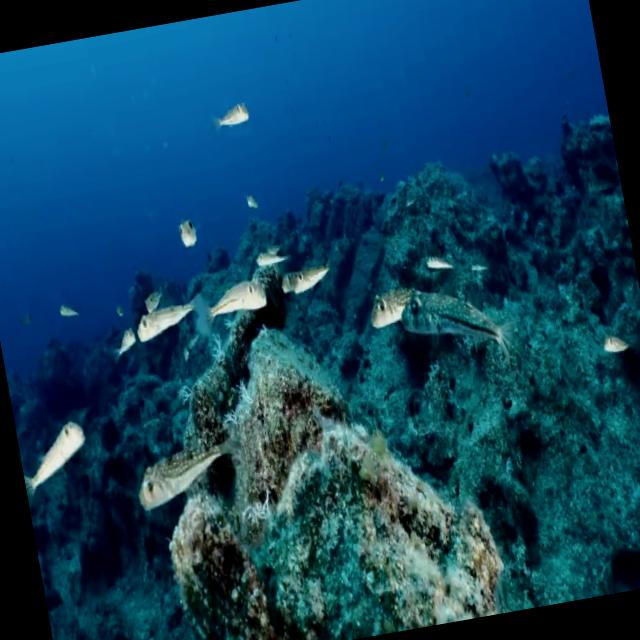Balon Baligi: (398, 277, 514, 376), (126, 433, 240, 516), (18, 408, 95, 500), (206, 272, 272, 324), (131, 294, 195, 346), (356, 278, 422, 327), (210, 80, 253, 141), (165, 210, 208, 260), (283, 259, 334, 299)
